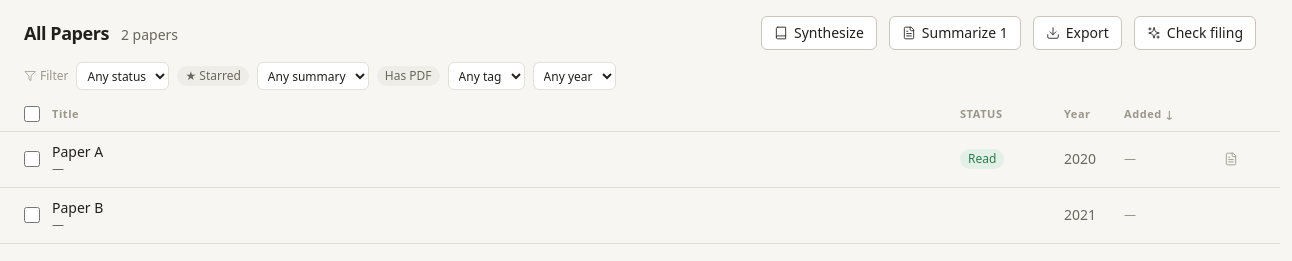
Scenario: LibraryView · filters + bulk actions › narrows the list via the status filter
Expected: the text "Paper A" is shown, [52,142,103,160]
Expected: the text "Paper B" is shown, [52,198,103,217]
# Keep only "Read" papers → A.
Select "Read" in the dropdown named "Reading status filter" at (123, 76), box [76,62,170,90]
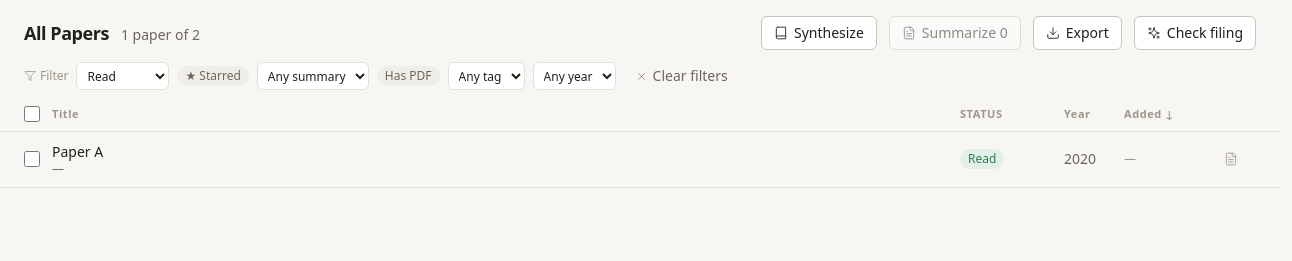
Expected: the text "Paper A" is shown, [52,142,103,160]
Expected: the button "Paper B" is gone
Expected: the text "1 paper of 2" is shown, [121,25,200,45]
